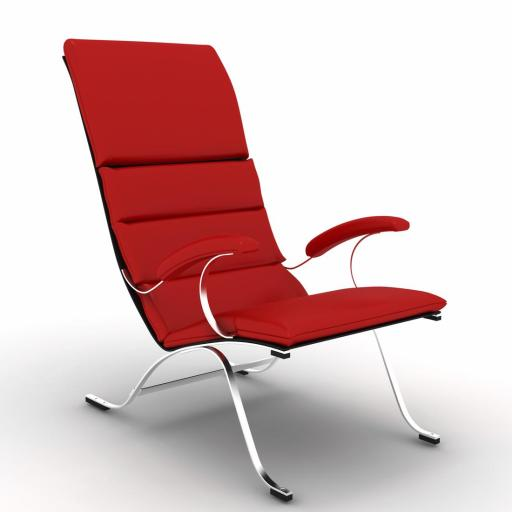chair: (44, 31, 462, 502)
